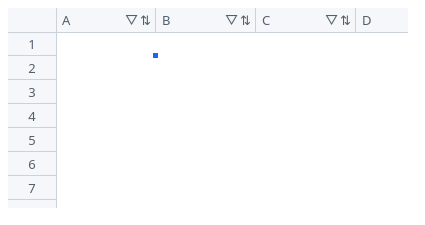
LatticaGrid editing › focuses select editors without setting an end selection range
Double-click the table with test id "lattica-grid" at (208, 108), box [8,8,408,208]
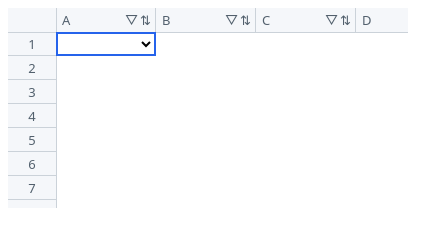
Expected: the dropdown with test id "lattica-editor-select" is shown, [56,32,156,56]
